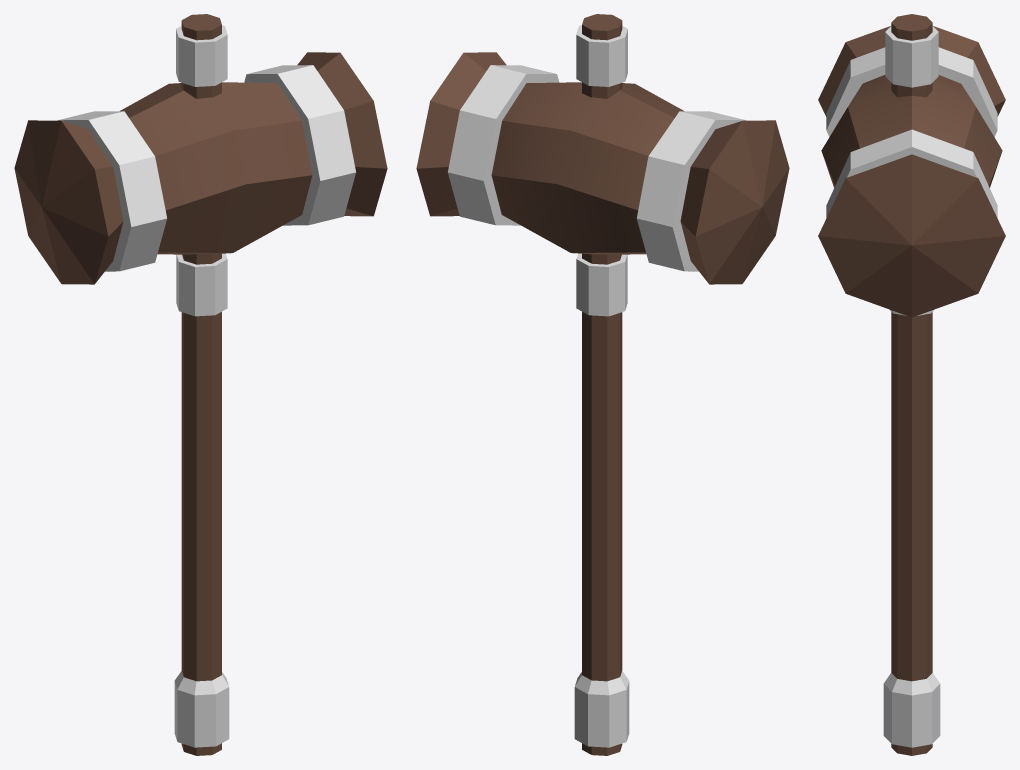
File: hammer.fbx
The picture shows the model from 3 angles, left to right: view 1: azimuth 30°, elevation 25°; view 2: azimuth 150°, elevation 25°; view 3: azimuth 270°, elevation 25°; orthographic projection.
Visible parts, largest first — view 1: hammer; view 2: hammer; view 3: hammer.
Boxes of the visible parts, x1,y1,x2,y2 form: hammer: (14,14,387,755); hammer: (416,14,789,755); hammer: (818,14,1005,755).
Size of the model in its own units: 76.43 by 166 by 39.06.
